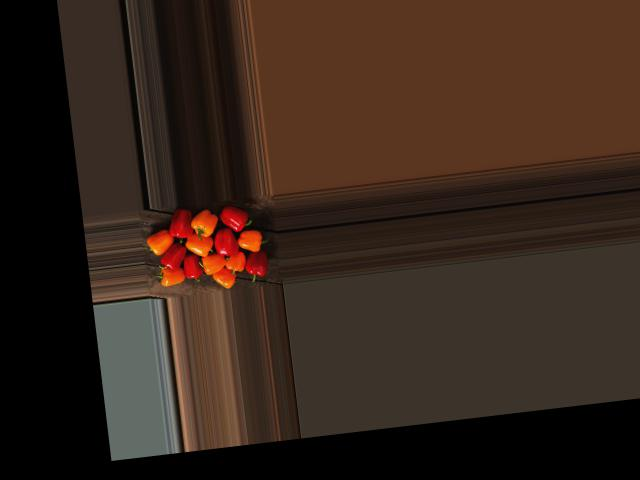bell_pepper: (144, 222, 182, 256)
